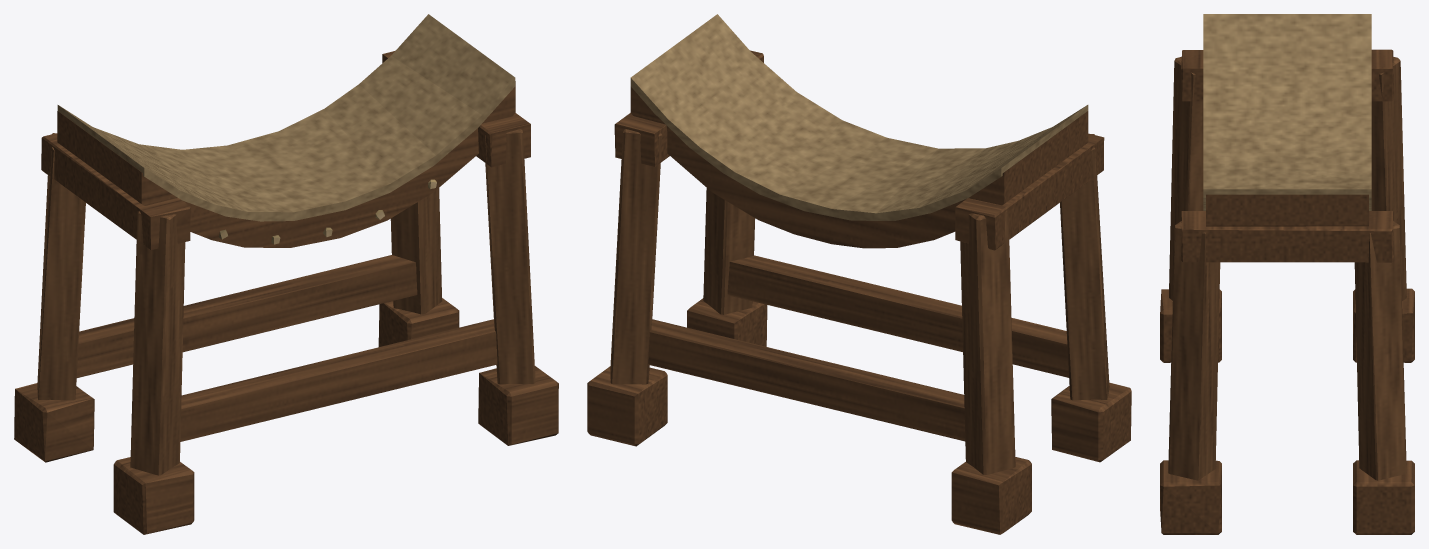
The model's file is AssemblySaddle_LOD1.fbx.
3 renders of one model, left to right at view 1: azimuth 30°, elevation 25°; view 2: azimuth 150°, elevation 25°; view 3: azimuth 270°, elevation 25°, orthographic. The views are drawn at different scales.
Parts seen in each view (by area): view 1: AssemblySaddle.001; view 2: AssemblySaddle.001; view 3: AssemblySaddle.001.
Boxes of the visible parts, left/top/right/bottom form: AssemblySaddle.001: left=14, top=14, right=558, bottom=534; AssemblySaddle.001: left=587, top=14, right=1131, bottom=534; AssemblySaddle.001: left=1160, top=14, right=1414, bottom=534.
Bounding box in the file's own units: 0.7976 × 0.636 × 0.4365.
Materials: 1 (1 with a texture image).
